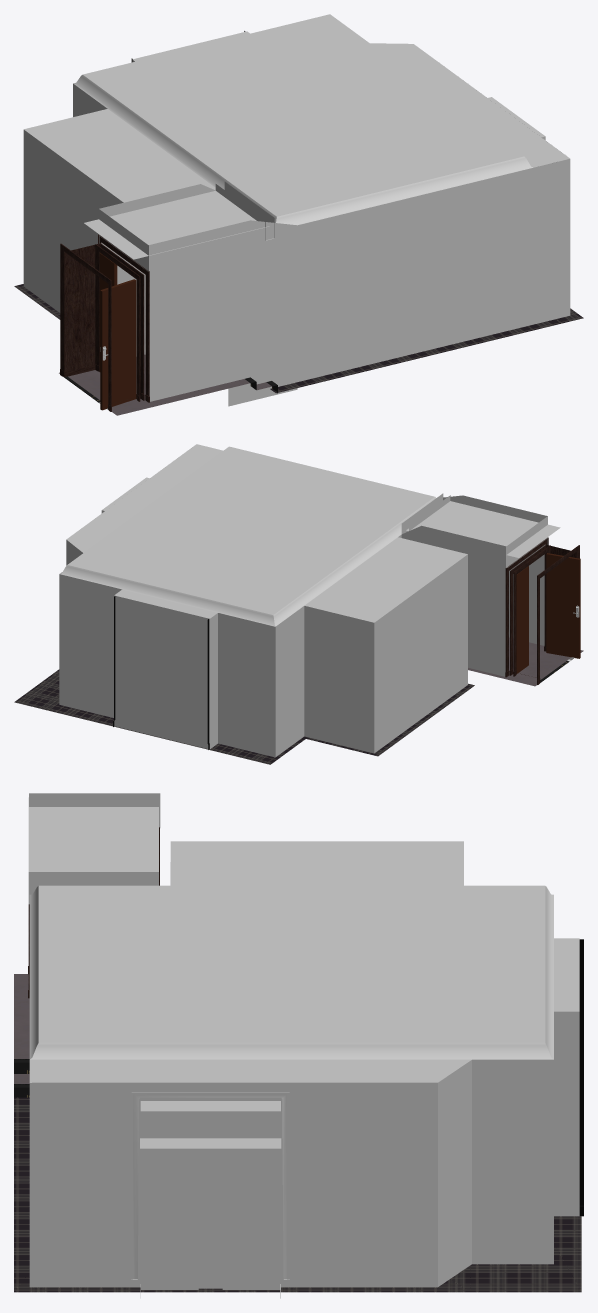
File: SA_SalonAuber.fbx
3 views of the same model, one above another, from view 1: azimuth 30°, elevation 25°; view 2: azimuth 150°, elevation 25°; view 3: azimuth 270°, elevation 25° (orthographic). The views are drawn at different scales.
Parts seen in each view (by area): view 1: polySurface5, polySurface1, polySurface4; view 2: polySurface5, polySurface1, polySurface4; view 3: polySurface5, polySurface1, polySurface4.
Boxes of the visible parts, x1,y1,x2,y2 form: polySurface5: (14, 14, 583, 415); polySurface1: (60, 97, 545, 411); polySurface4: (73, 74, 533, 225); polySurface5: (14, 444, 583, 764); polySurface1: (101, 477, 580, 684); polySurface4: (60, 497, 435, 626); polySurface5: (14, 793, 583, 1292); polySurface1: (28, 827, 289, 1298); polySurface4: (29, 886, 553, 1059).
Size of the model in its own units: 930 by 333 by 730.
